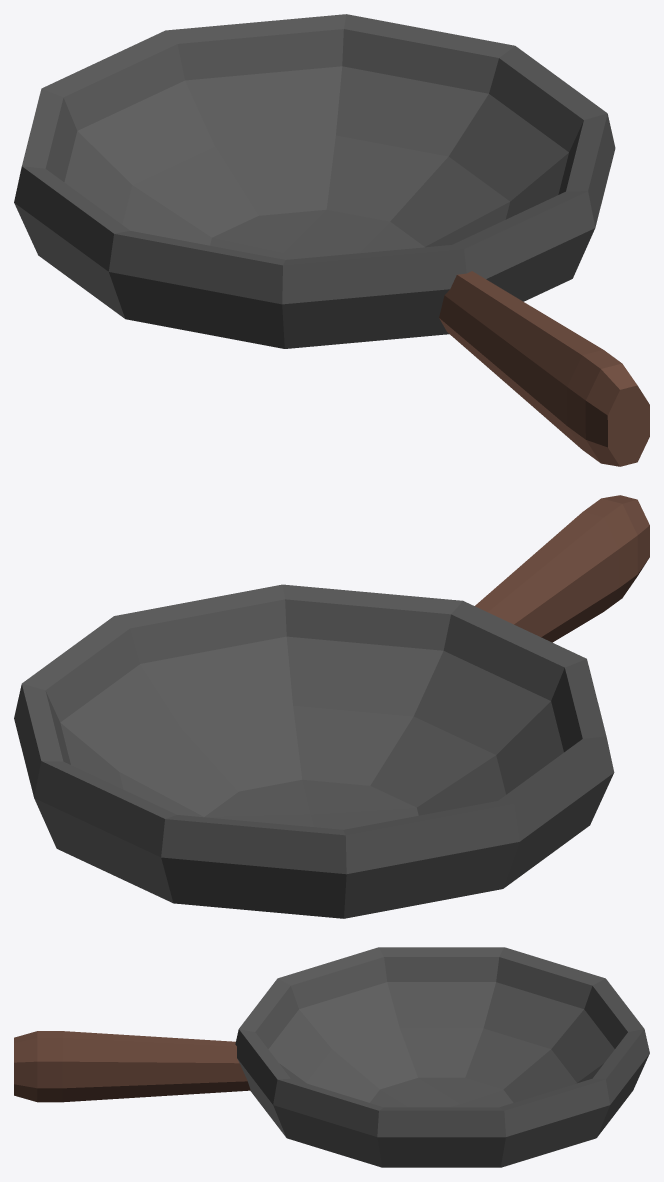
The model's file is iron_frying_pan.glb.
3 views of the same model, one above another, from view 1: azimuth 30°, elevation 25°; view 2: azimuth 150°, elevation 25°; view 3: azimuth 270°, elevation 25° (orthographic). The views are drawn at different scales.
Visible parts, largest first — view 1: FryingPan; view 2: FryingPan; view 3: FryingPan.
Part boxes in pixels (x1=…): FryingPan: x1=14, y1=14, x2=649, y2=466; FryingPan: x1=14, y1=495, x2=649, y2=918; FryingPan: x1=14, y1=947, x2=649, y2=1167.
Size of the model in its own units: 1 by 0.253 by 1.6.
